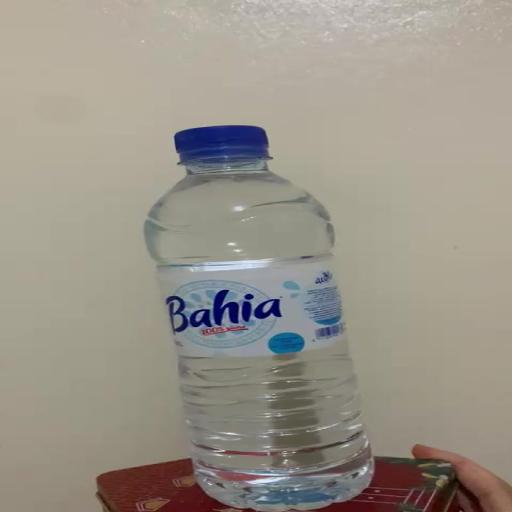bouteille conformite: (145, 125, 372, 511)
